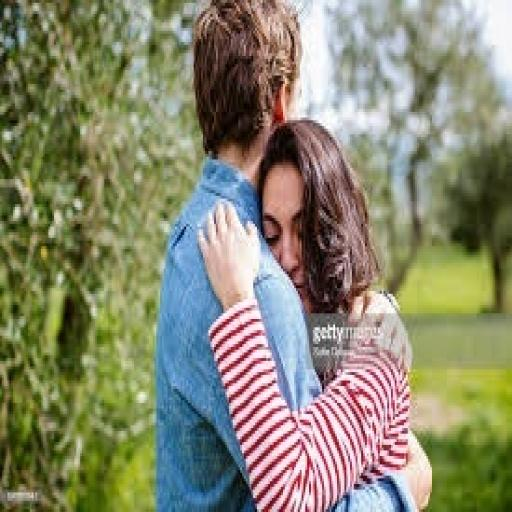hugging: (153, 0, 432, 509)
